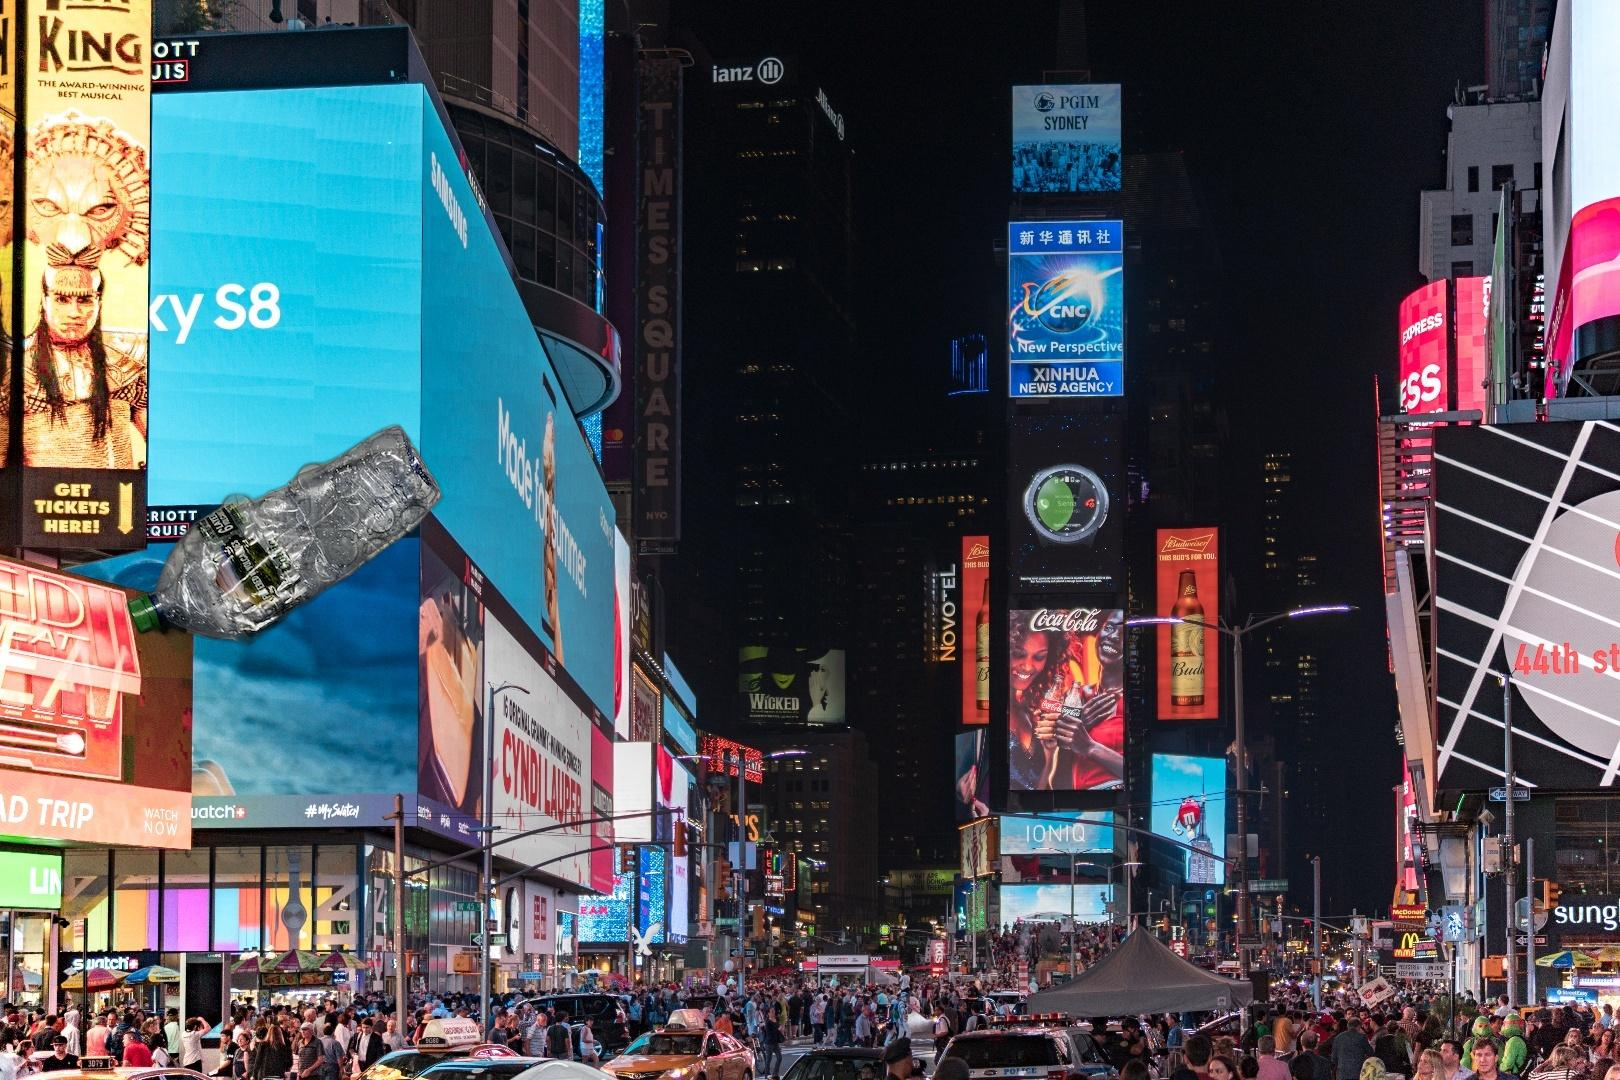plastic-bottles: (122, 419, 450, 652)
trash: (451, 1056, 671, 1080)
